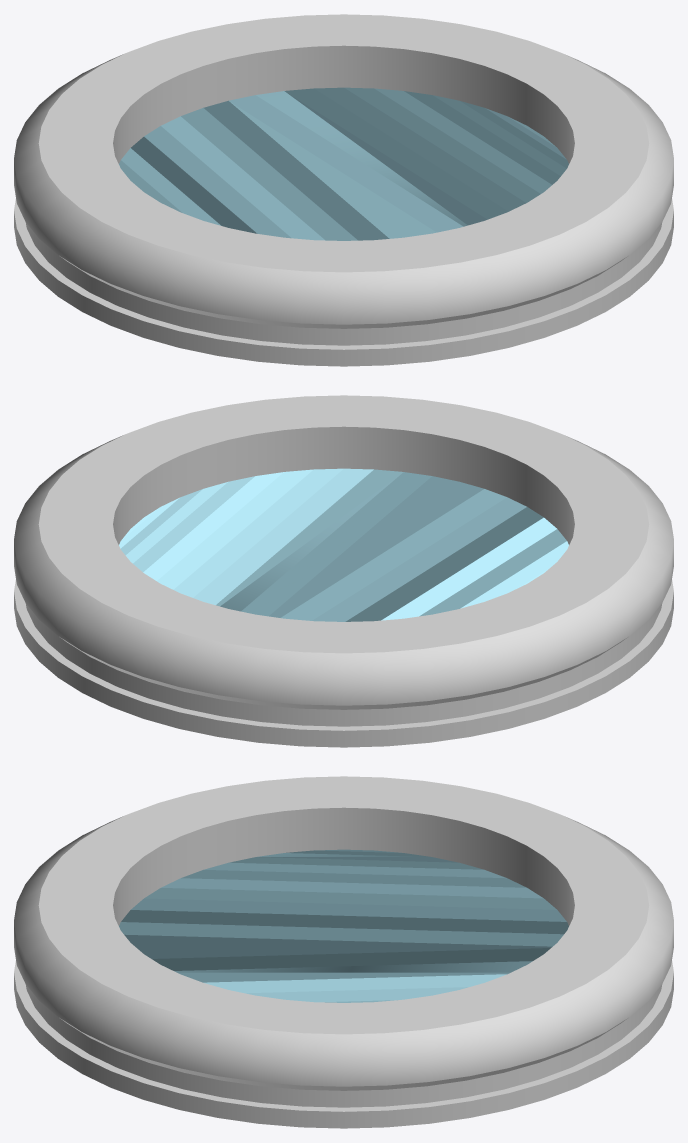
Rendered from fountain.glb.
3 renders of one model, top to bottom at view 1: azimuth 30°, elevation 25°; view 2: azimuth 150°, elevation 25°; view 3: azimuth 270°, elevation 25°, orthographic.
Visible parts, largest first — view 1: fountain; view 2: fountain; view 3: fountain.
Boxes of the visible parts, left/top/right/bottom form: fountain: left=14, top=14, right=673, bottom=366; fountain: left=14, top=395, right=673, bottom=747; fountain: left=14, top=776, right=673, bottom=1128.
Bounding box in the file's own units: 2 × 0.28 × 2.
